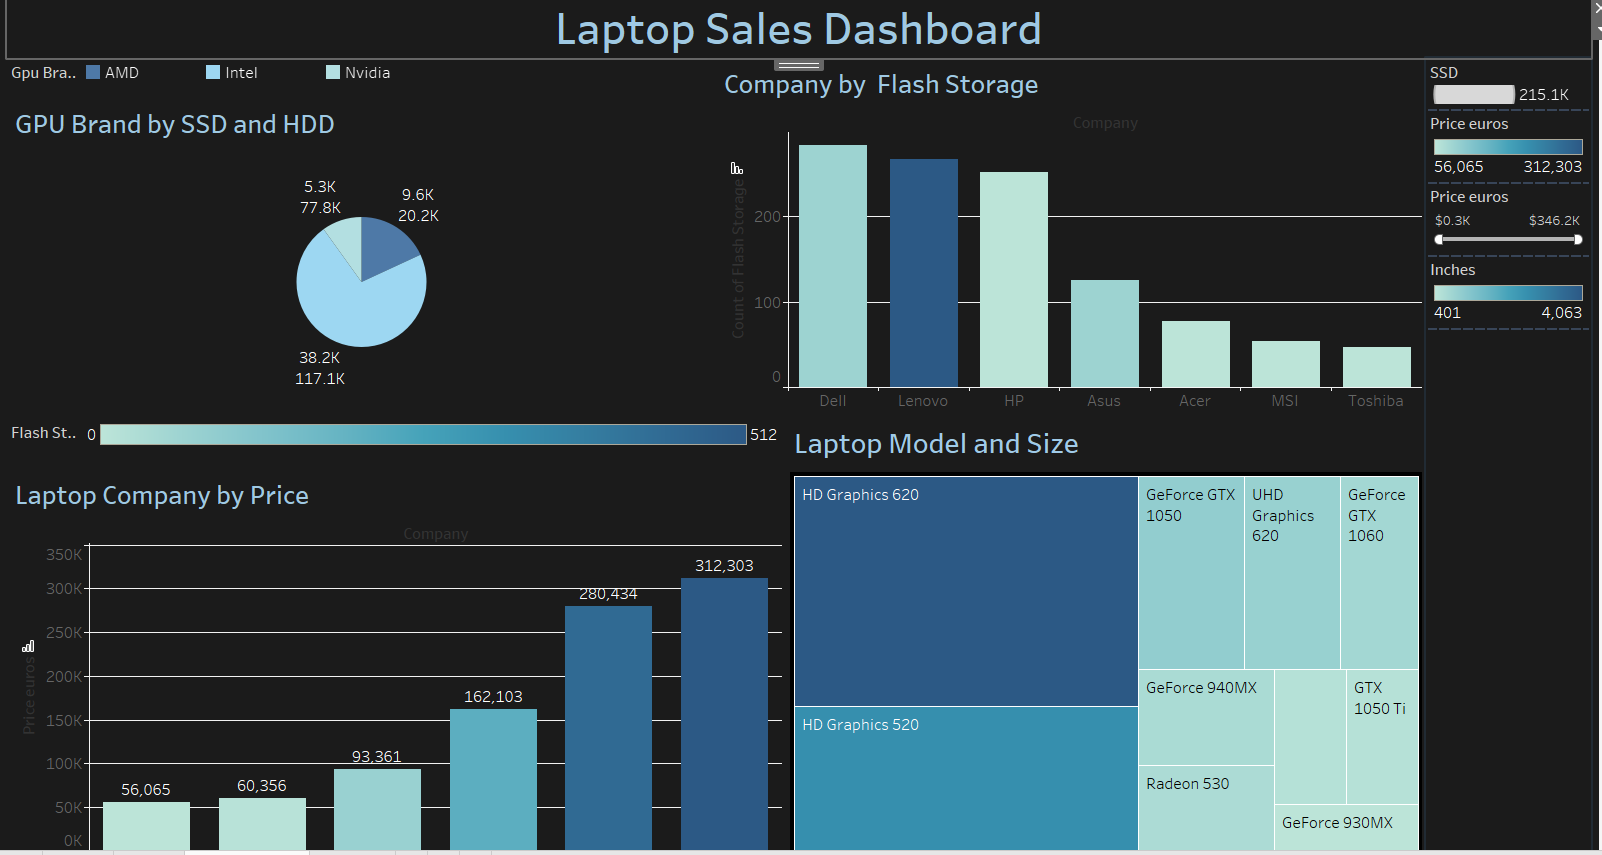

What the dashboard file says about the page in this screenshot:
{"tool":"tableau","page":{"name":"Dashboard 1","canvas":[1600,900],"ordinal":0},"visuals":[{"type":"text","box":[8,8,1584,62]},{"type":"legend","title":"Sheet 3","param":"[federated.0n0jd431ccmgup1bne0rw1ccpa4t].[none:Gpu Brand:nk]","box":[8,70,709,40]},{"type":"worksheet","title":"Sheet 4","mark":"Automatic","rows":["Flash Storage"],"cols":["Company"],"box":[717,70,710,358]},{"type":"legend","title":"Sheet 3","param":"[federated.0n0jd431ccmgup1bne0rw1ccpa4t].[sum:SSD:qk]","box":[1427,70,165,51]},{"type":"worksheet","title":"Sheet 3","mark":"Pie","box":[8,110,709,318]},{"type":"legend","title":"Sheet 1","param":"[federated.0n0jd431ccmgup1bne0rw1ccpa4t].[sum:Price_euros:qk]","box":[1427,121,165,73]},{"type":"filter","title":"Sheet 4","param":"[federated.0n0jd431ccmgup1bne0rw1ccpa4t].[sum:Price_euros:qk]","box":[1427,194,165,73]},{"type":"legend","title":"Sheet 2","param":"[federated.0n0jd431ccmgup1bne0rw1ccpa4t].[sum:Inches:qk]","box":[1427,267,165,73]},{"type":"legend","title":"Sheet 4","param":"[federated.0n0jd431ccmgup1bne0rw1ccpa4t].[sum:Flash Storage:qk]","box":[8,428,779,53]},{"type":"worksheet","title":"Sheet 2","mark":"Automatic","box":[787,428,640,464]},{"type":"worksheet","title":"Sheet 1","mark":"Automatic","rows":["Price_euros"],"cols":["Company"],"box":[8,481,779,411]}]}

Visuals, with their boxes on the page's 1600x900 design canvas (x1, y1, x2, y2). These are canvas units, not pixel positions in the 1602x855 screenshot, which may show the page scaled, cropped or inside an application window:
text: x1=8 y1=8 x2=1592 y2=70
"Sheet 3" legend: x1=8 y1=70 x2=717 y2=110
"Sheet 4" worksheet: x1=717 y1=70 x2=1427 y2=428
"Sheet 3" legend: x1=1427 y1=70 x2=1592 y2=121
"Sheet 3" worksheet (Pie marks): x1=8 y1=110 x2=717 y2=428
"Sheet 1" legend: x1=1427 y1=121 x2=1592 y2=194
"Sheet 4" filter: x1=1427 y1=194 x2=1592 y2=267
"Sheet 2" legend: x1=1427 y1=267 x2=1592 y2=340
"Sheet 4" legend: x1=8 y1=428 x2=787 y2=481
"Sheet 2" worksheet: x1=787 y1=428 x2=1427 y2=892
"Sheet 1" worksheet: x1=8 y1=481 x2=787 y2=892
